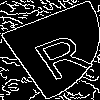R: (25, 25, 96, 82)
